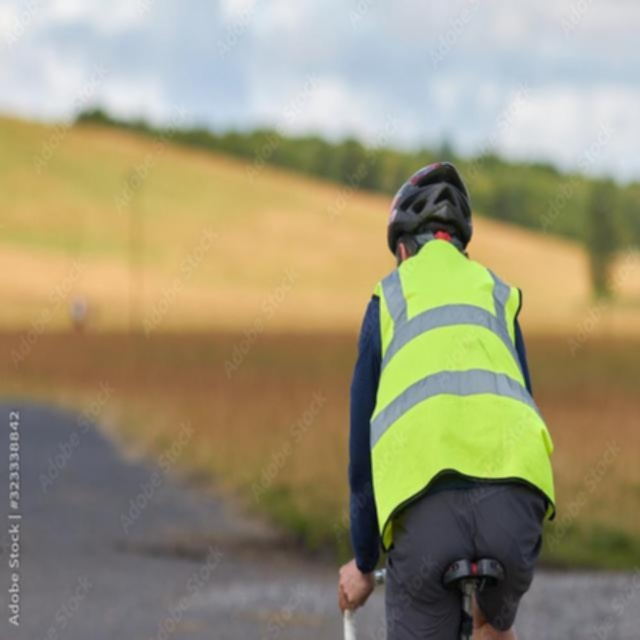Con_Chaleco: (359, 251, 542, 506)
